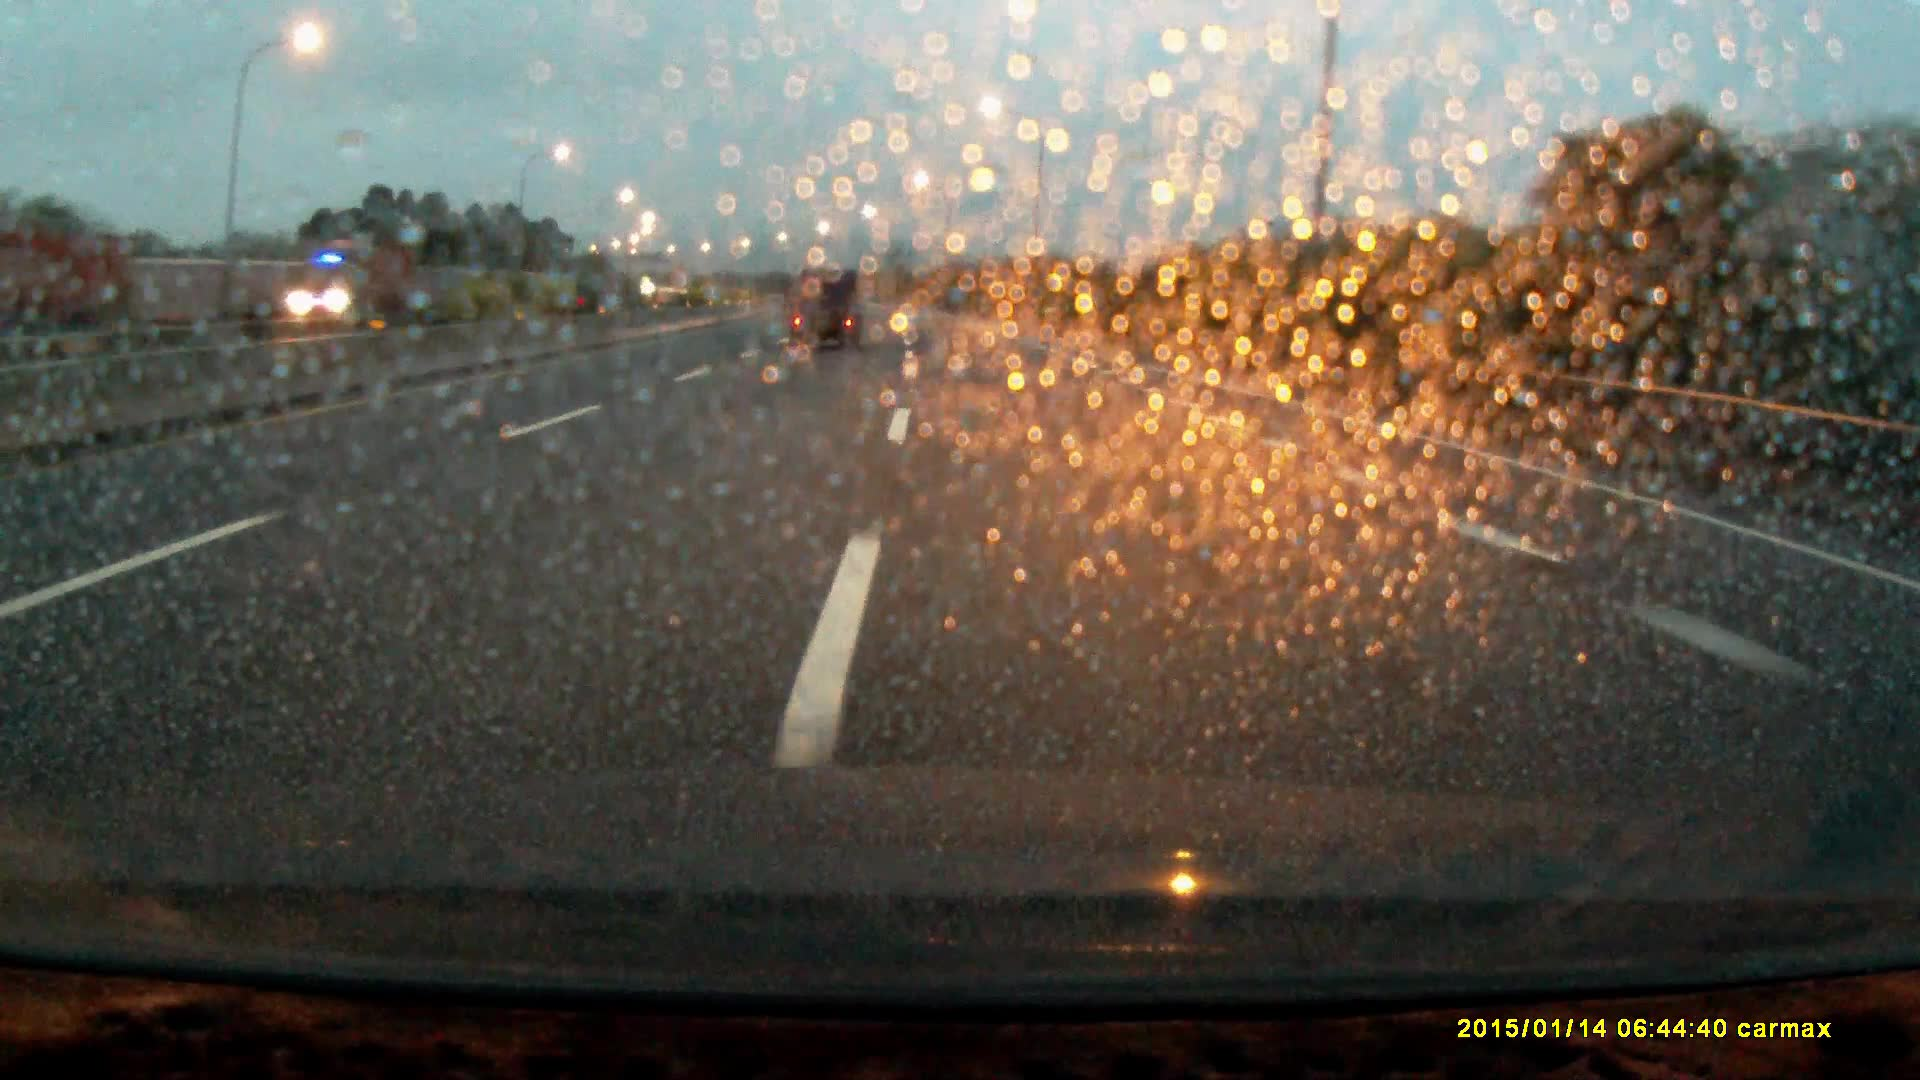vehicle: (285, 244, 419, 320), (785, 272, 864, 357)
